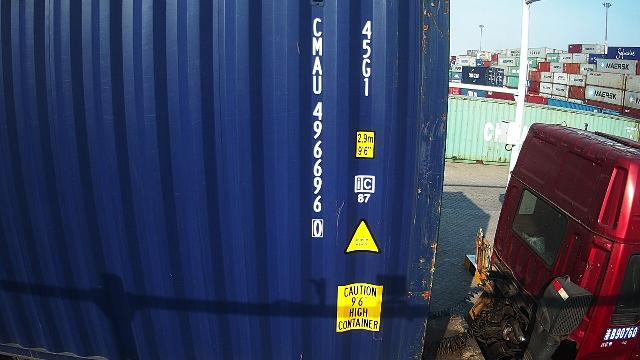0: (312, 219, 324, 237)
4: (312, 102, 324, 121)
6: (313, 139, 323, 158), (313, 159, 323, 177), (314, 195, 322, 213)
9: (312, 120, 322, 140), (312, 177, 322, 195)
A: (312, 56, 322, 74)
C: (312, 17, 322, 37)
M: (312, 36, 322, 55)
U: (313, 75, 323, 95)
